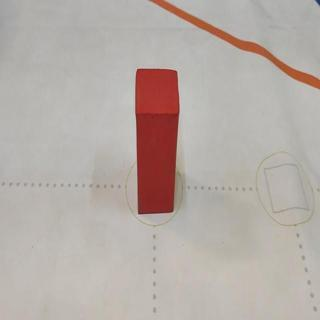redbox: (134, 67, 180, 214)
